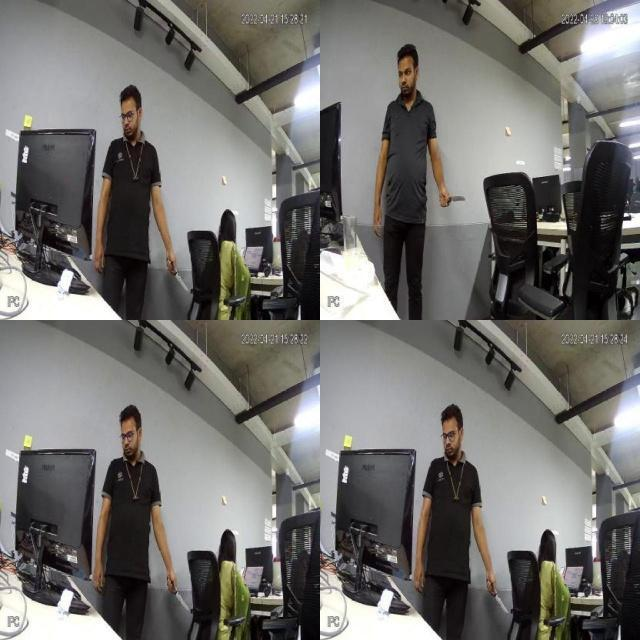-: (166, 576, 187, 614), (168, 259, 187, 297), (492, 586, 509, 618), (445, 187, 467, 205)
